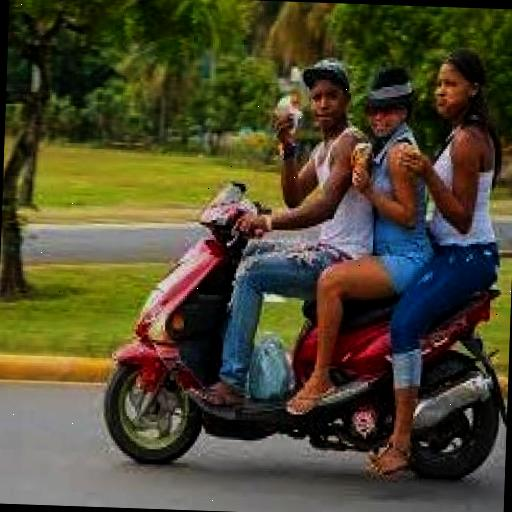no helmet: (277, 67, 352, 206)
triple riding: (69, 21, 512, 494)
